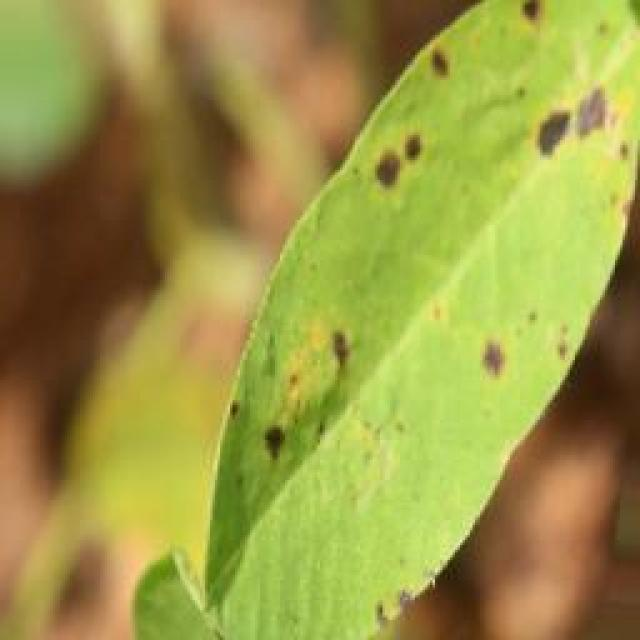Yellowish: (220, 0, 640, 620)
